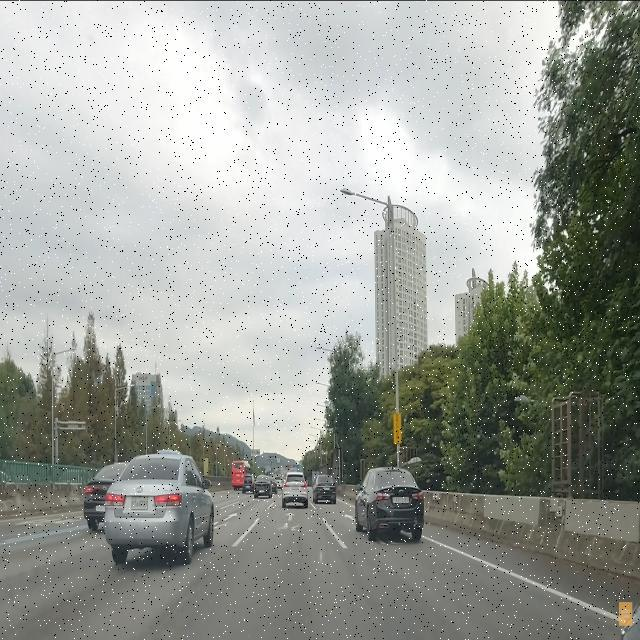forward: (250, 510, 329, 522)
